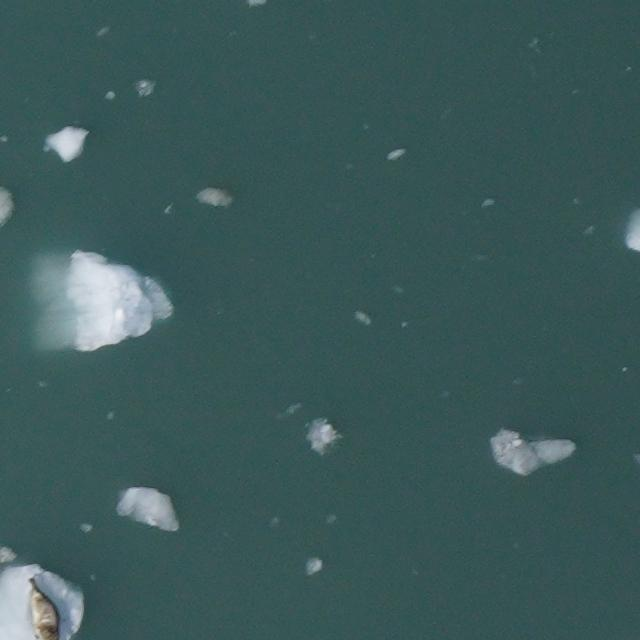seal: (23, 572, 66, 640)
